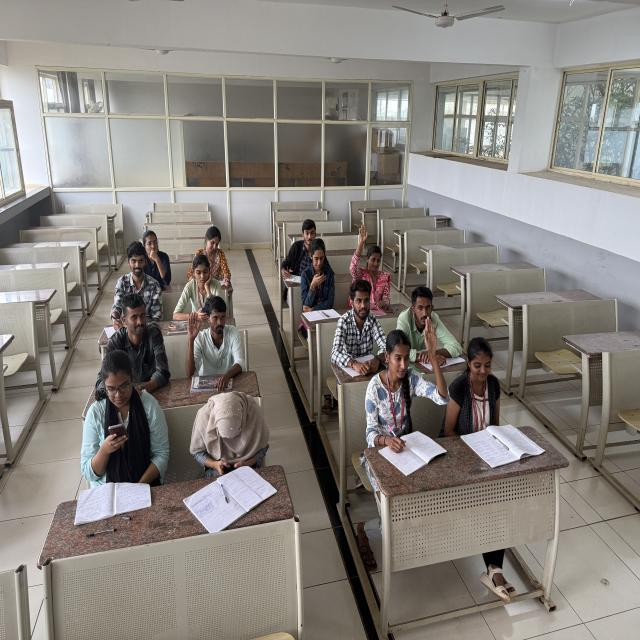Hand Rising: (368, 320, 447, 432), (347, 224, 404, 301), (181, 308, 247, 373)
Reading: (450, 338, 545, 458), (190, 229, 243, 285)
Using Phone: (72, 350, 172, 481), (185, 394, 287, 471), (173, 257, 230, 320), (299, 244, 337, 290)
